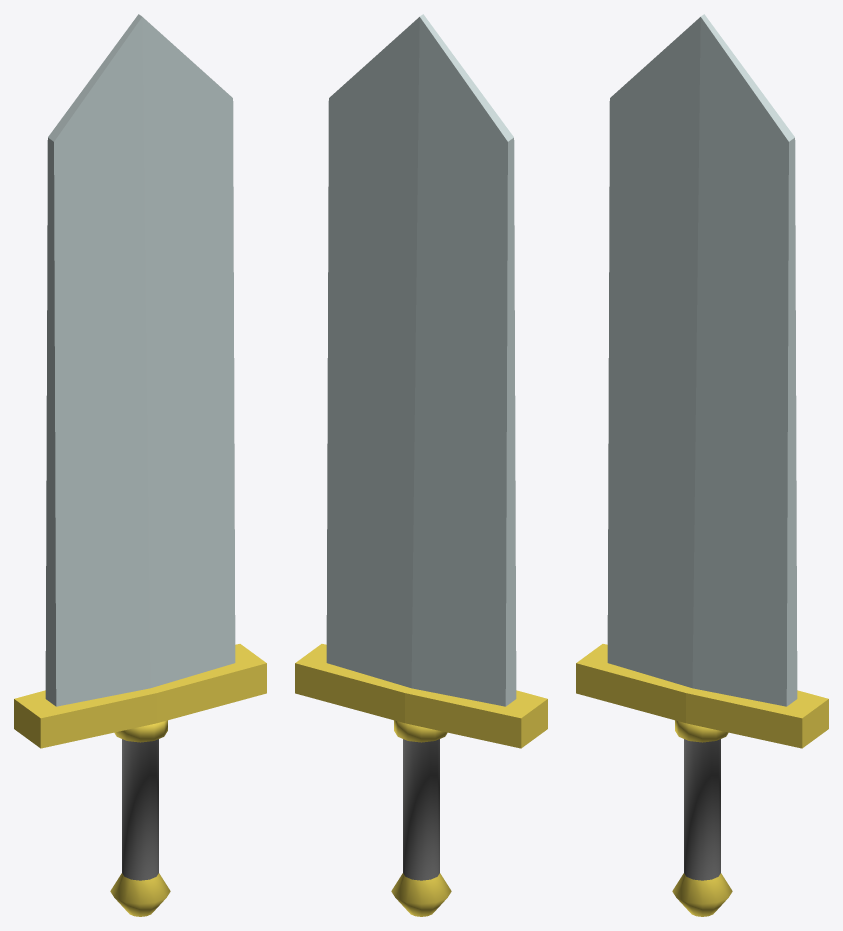
Rendered from MediumSword.fbx.
3 views of the same model, side by side, from view 1: azimuth 30°, elevation 25°; view 2: azimuth 150°, elevation 25°; view 3: azimuth 330°, elevation 25° (orthographic).
Visible parts, largest first — view 1: Circle; view 2: Circle; view 3: Circle.
Part boxes in pixels (x1,y1,x2,y2): Circle: [14, 14, 266, 916]; Circle: [295, 14, 547, 916]; Circle: [576, 14, 828, 916].
Bounding box in the file's own units: 24.87 × 94.22 × 6.27.
1 material, 1 textured.
